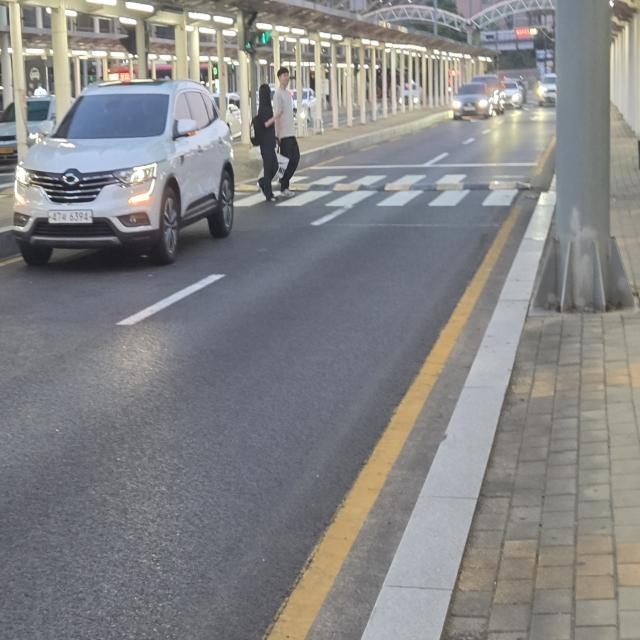car: (9, 68, 240, 282)
